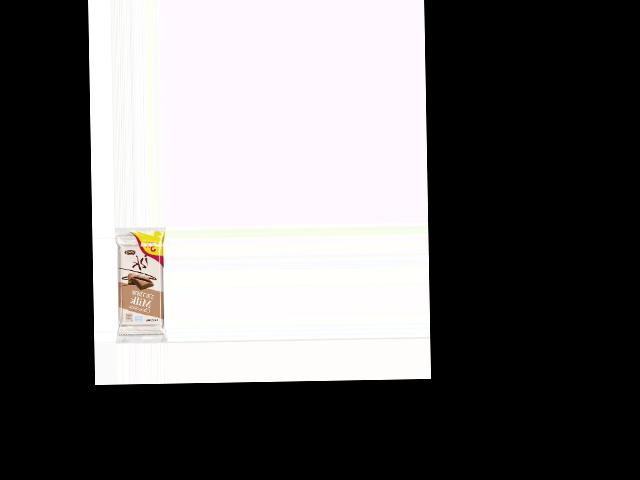chocolate: (113, 226, 167, 332)
